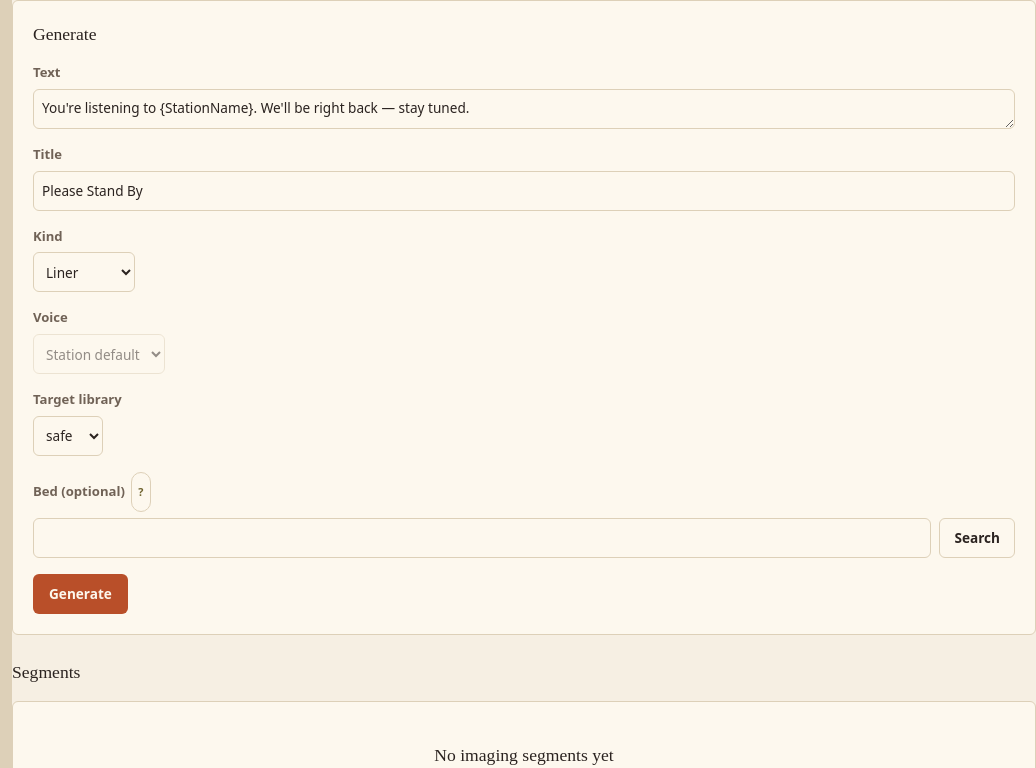
Test case: Feature: Station sounds page › Scenario: bed picker searches the catalog › offers matching catalog rows for a typed search term
Type "jingle" into the dropdown labelled "Bed (optional)".
click(482, 538); type("jingle")  # box [33,518,931,558]
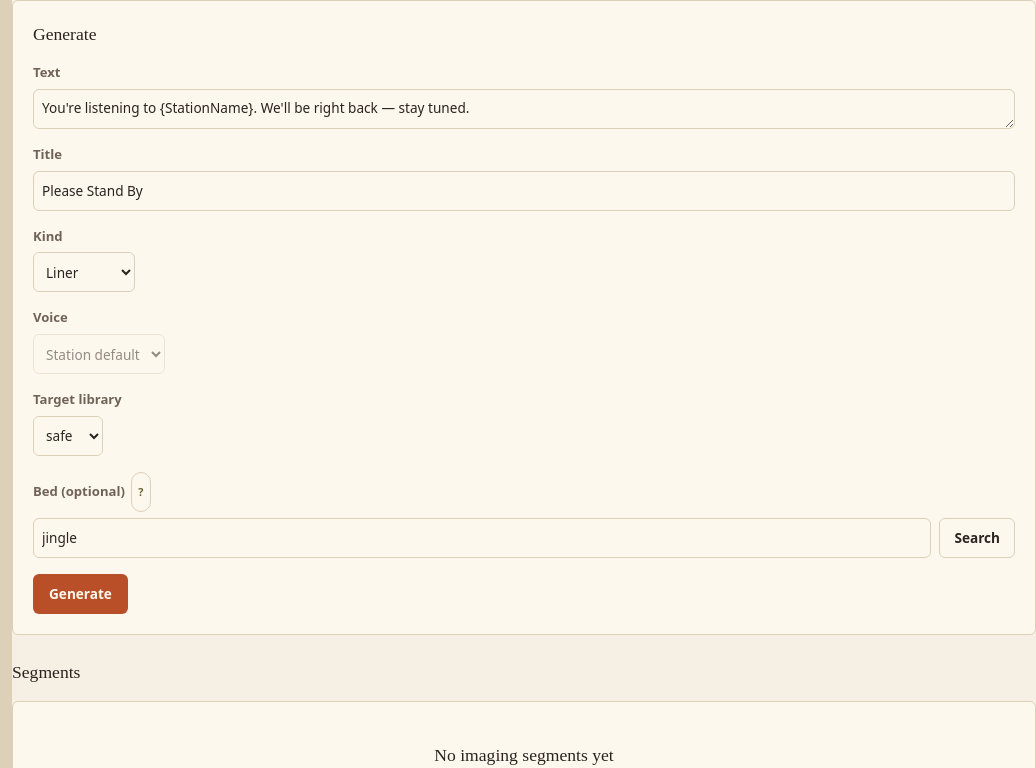
Click the button "Search".
click(977, 538)  # box [939,518,1015,558]
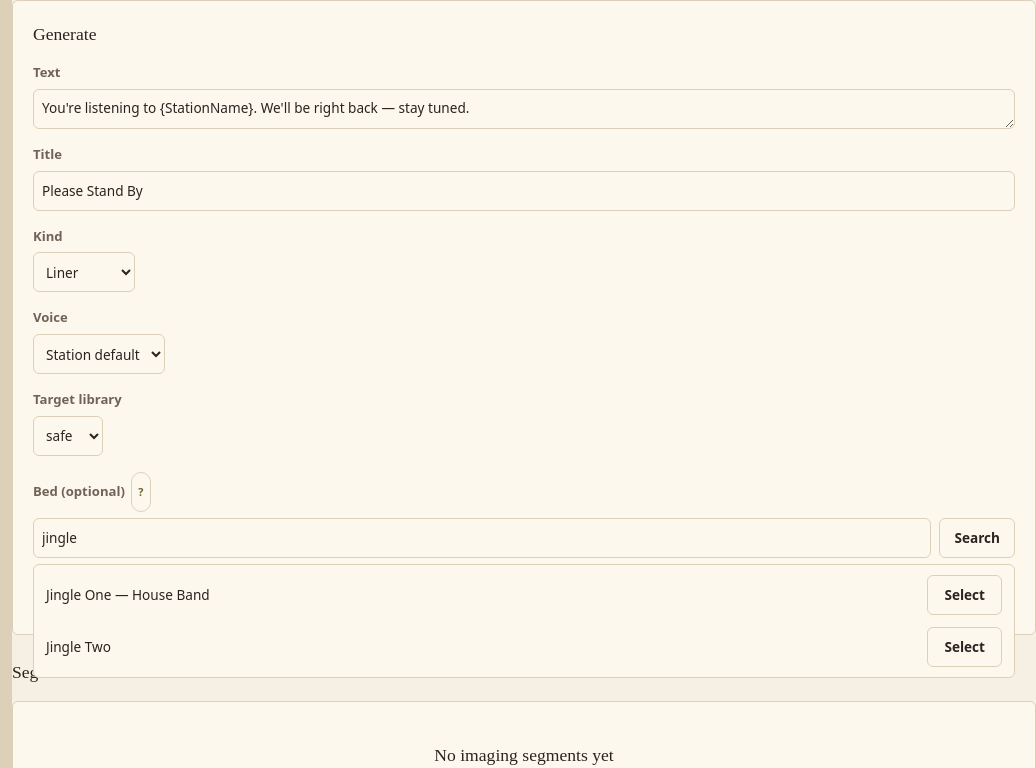
expect the text "Jingle One — House Band" is shown: met, box [46,585,210,605]
expect the text "Jingle Two" is shown: met, box [46,637,111,657]
